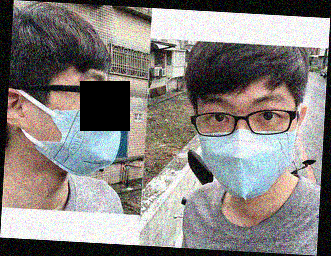with_mask: (195, 88, 298, 200), (37, 69, 125, 176)
